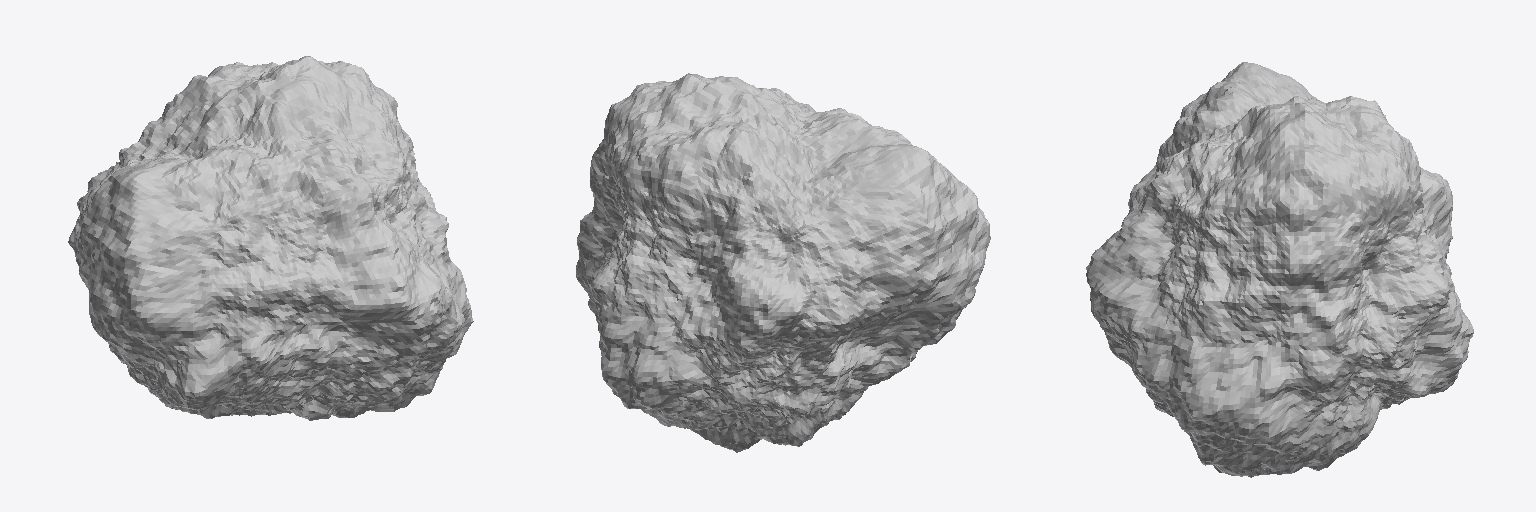
File: asteroid.obj
3 views of the same model, side by side, from view 1: azimuth 30°, elevation 25°; view 2: azimuth 150°, elevation 25°; view 3: azimuth 270°, elevation 25° (orthographic).
Visible parts, largest first — view 1: Cube; view 2: Cube; view 3: Cube.
Boxes of the visible parts, x1,y1,x2,y2 form: Cube: [68, 56, 473, 420]; Cube: [576, 73, 990, 452]; Cube: [1086, 62, 1473, 477].
Bounding box in the file's own units: 1.88 × 1.73 × 1.74.